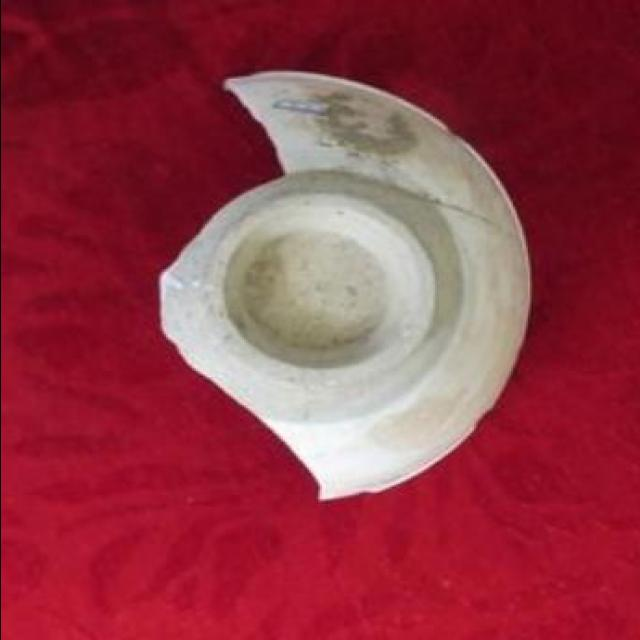-Other waste - ceramic-: (152, 71, 538, 501)
